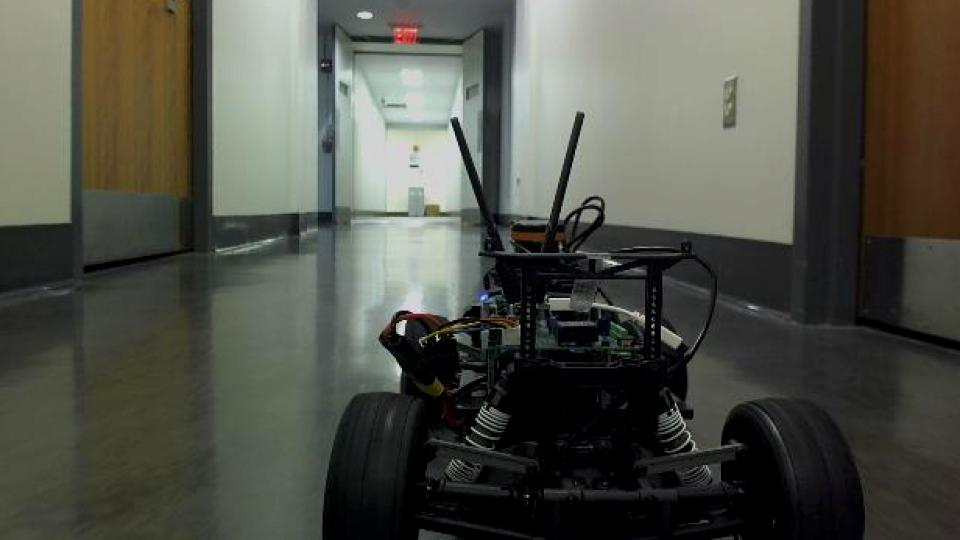car: (318, 109, 868, 540)
